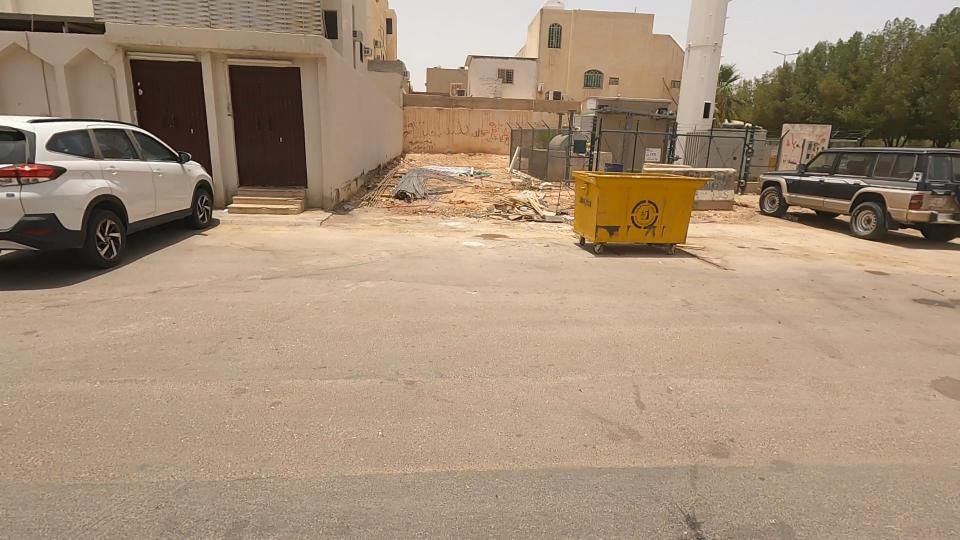GARBAGE: (455, 162, 573, 251), (361, 137, 452, 242), (415, 144, 518, 203)
